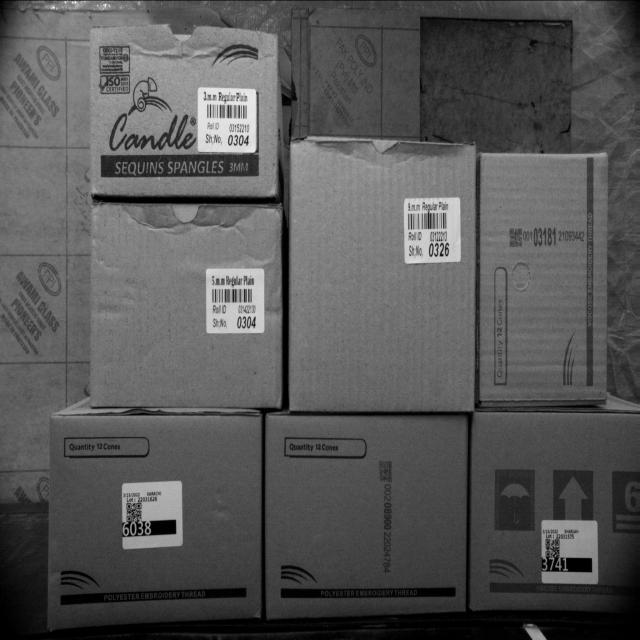box: (290, 141, 478, 412), (45, 412, 266, 632), (264, 414, 470, 626), (92, 200, 284, 410), (478, 152, 608, 411), (470, 412, 640, 610), (92, 28, 280, 200)
